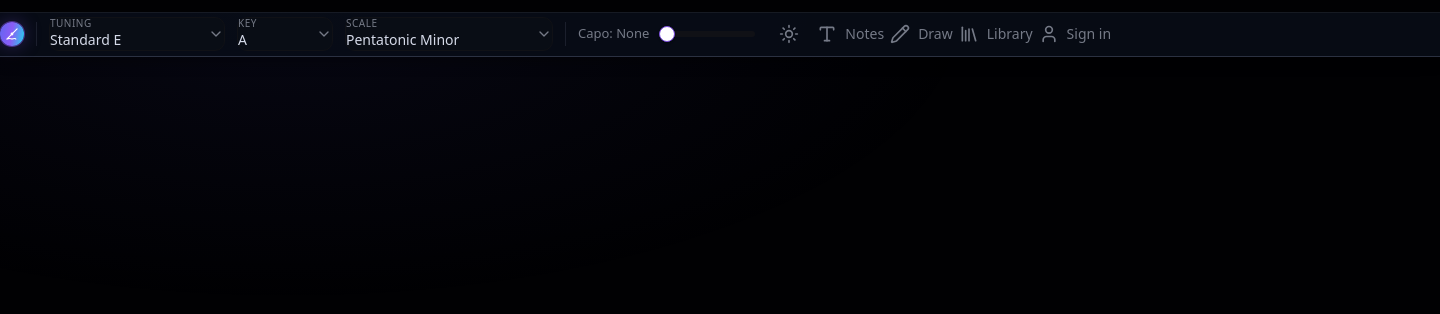
Test: ControlBar › KeySelect has 12 chromatic-note options when opened
This screenshot has width=1440, height=314.
Click the dropdown labelled "Key". click: click(285, 34)
box: [237,17,333,51]
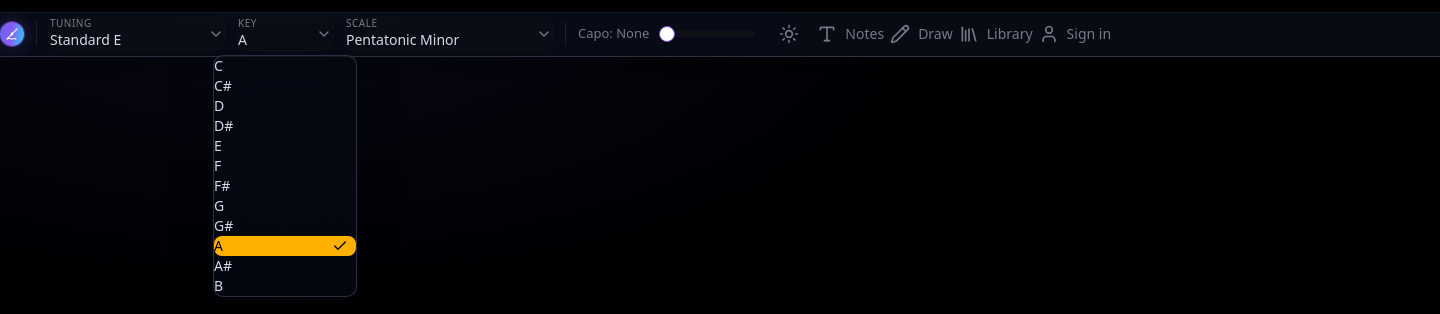
Expected: the number of options is 12
